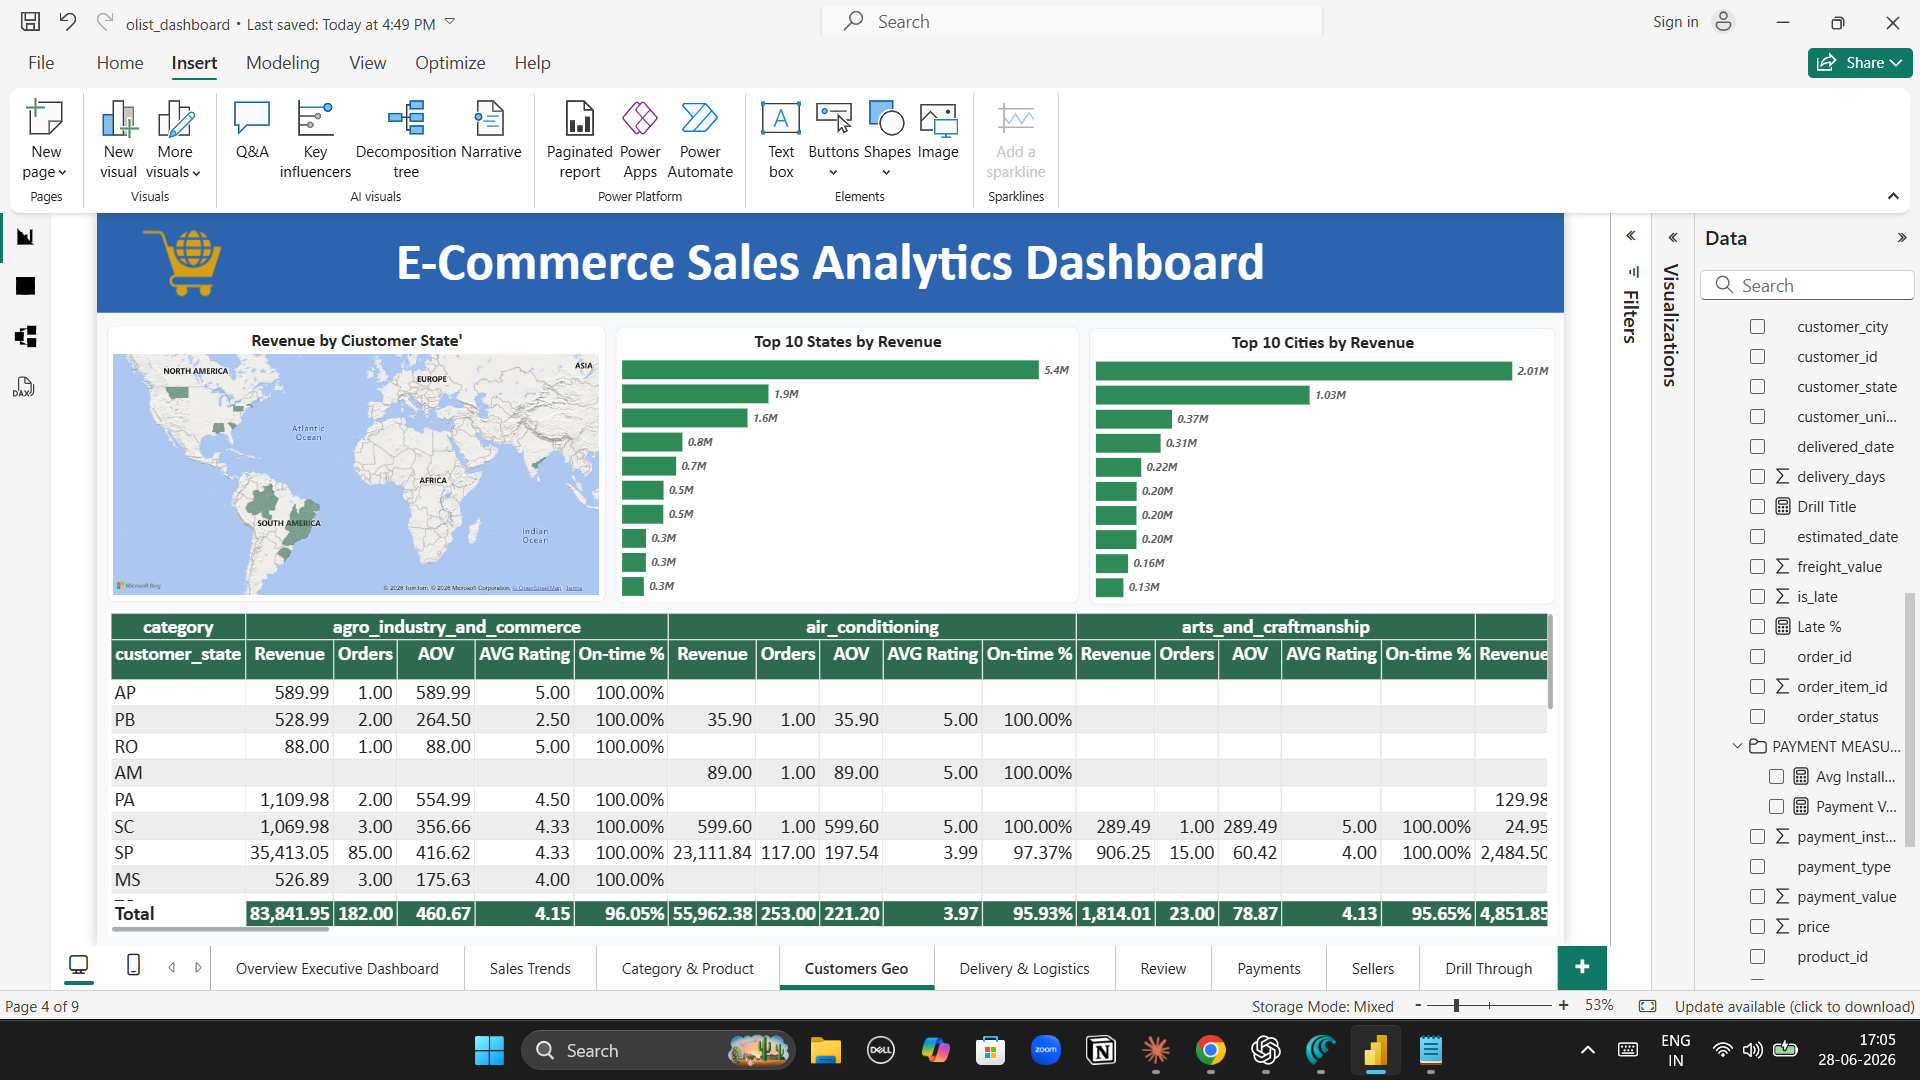

What the dashboard file says about the page in this screenshot:
{"tool":"powerbi","page":{"name":"Customers Geo","canvas":[2200,1100],"ordinal":3},"visuals":[{"type":"textbox","box":[0,0,2200.8,150],"z":0},{"type":"image","box":[63.7,9.4,127.5,131.2],"z":1000},{"type":"filledMap","title":"Revenue by Ciustomer State''","fields":{"Category":["public bi_fact_sales.customer_state"]},"box":[15.9,169.4,748.2,414.7],"z":2000},{"type":"clusteredBarChart","title":"Top 10 States by Revenue","fields":{"Category":["public bi_fact_sales.customer_state"],"Y":["public bi_fact_sales.Revenue"]},"box":[778.2,171.2,695.2,414.7],"z":3000},{"type":"pivotTable","fields":{"Values":["public bi_fact_sales.Revenue","public bi_fact_sales.Orders","public bi_fact_sales.AOV","public bi_fact_sales.AVG Rating","public bi_fact_sales.On-time %"],"Columns":["public bi_fact_sales.category"],"Rows":["public bi_fact_sales.customer_state"]},"box":[16,595.6,2172.4,487.6],"z":4000},{"type":"clusteredBarChart","title":"Top 10 Cities by Revenue","fields":{"Y":["public bi_fact_sales.Revenue"],"Category":["public bi_fact_sales.customer_city"]},"box":[1489.3,172.9,698.8,414.7],"z":5000}]}

Visuals, with their boxes on the page's 2200x1100 design canvas (x1, y1, x2, y2). These are canvas units, not pixel positions in the 1920x1080 screenshot, which may show the page scaled, cropped or inside an application window:
textbox: box=[0, 0, 2201, 150]
image: box=[64, 9, 191, 141]
"Revenue by Ciustomer State''" filledMap: box=[16, 169, 764, 584]
"Top 10 States by Revenue" clusteredBarChart: box=[778, 171, 1473, 586]
pivotTable - public bi_fact_sales.Revenue x public bi_fact_sales.Orders: box=[16, 596, 2188, 1083]
"Top 10 Cities by Revenue" clusteredBarChart: box=[1489, 173, 2188, 588]
